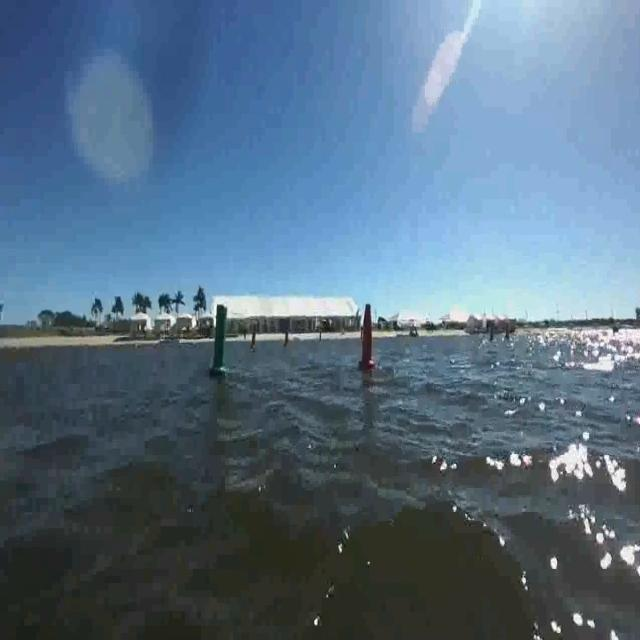green-column-buoy: (209, 302, 231, 378)
red-column-buoy: (357, 304, 376, 370), (283, 329, 291, 350)
